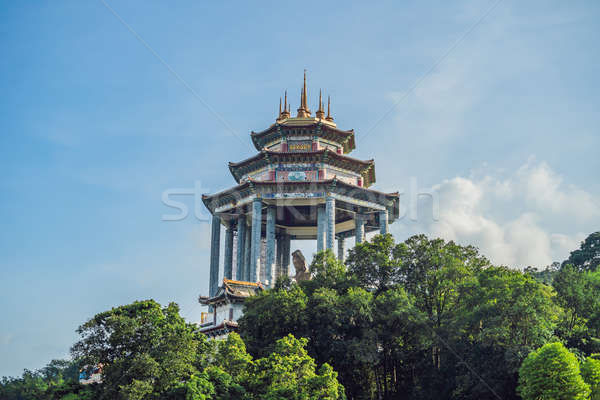Buddhist Temple: (199, 67, 381, 308)
